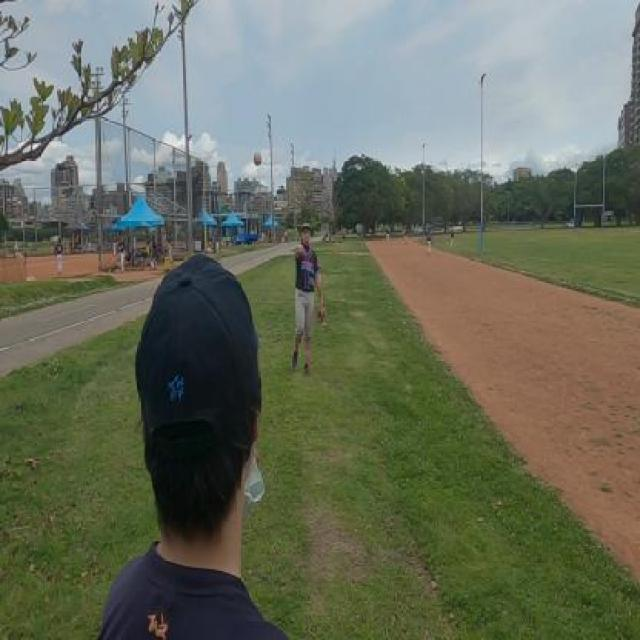sports ball: (251, 152, 263, 166)
